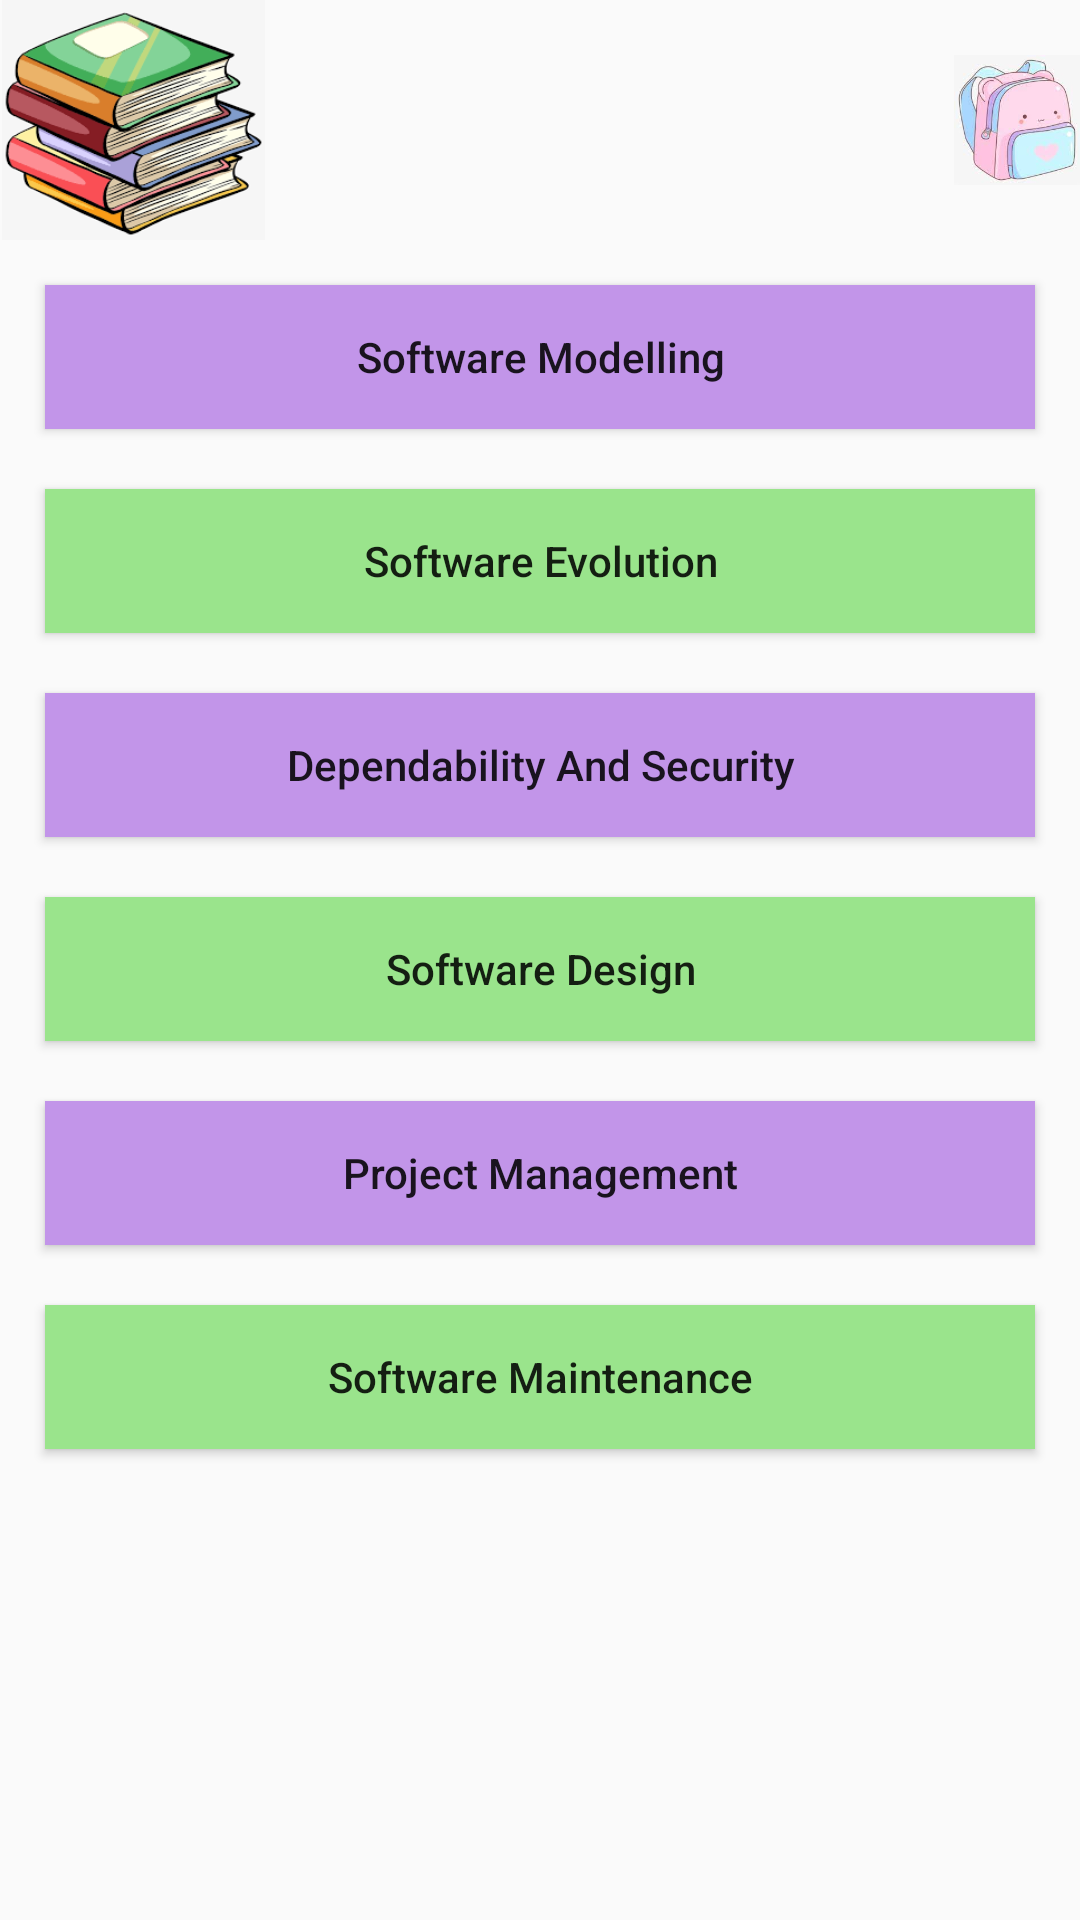

Screen size 1080px x 1920px. Icon name, then its box in pixels as Rect(x1, y1, x2, y2):
bag: Rect(958, 59, 1076, 181)
books: Rect(5, 12, 262, 235)
